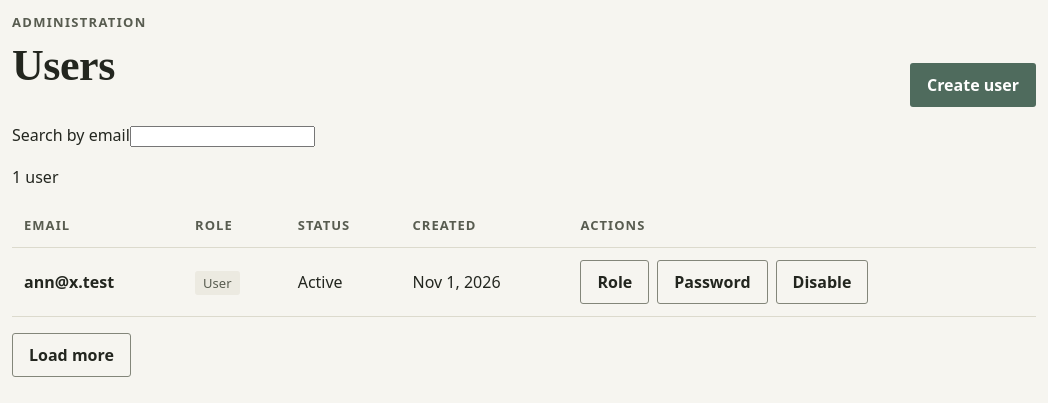
UsersPage › filters the loaded users by email and loads the next page
Expected: the text "ann@x.test" is shown, [24,271,114,293]
Click the button "Load more" at [71, 355], box [12,333,131,377]
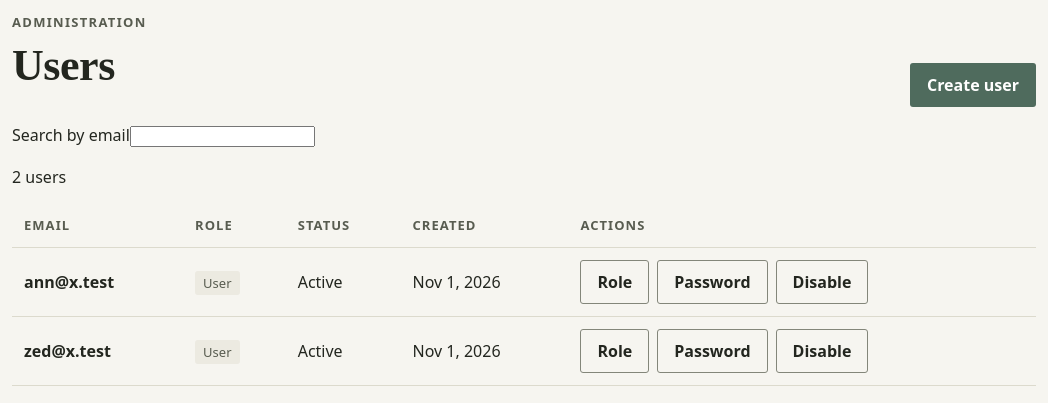
Now the text "zed@x.test" is shown, box [24,340,111,362]
Type "zed" into the search field labelled "Search by email" at [222, 137], box [130,126,315,147]
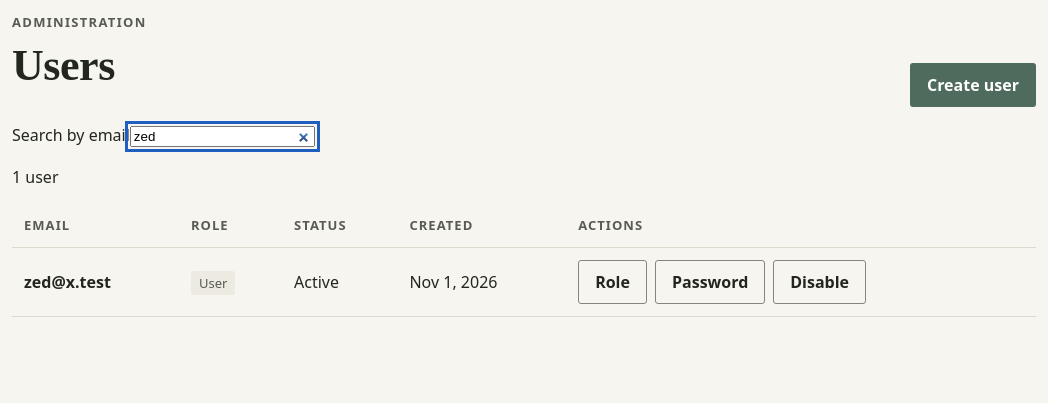
Now the text "ann@x.test" is gone
Now the text "1 user" is shown, box [12,166,58,188]
